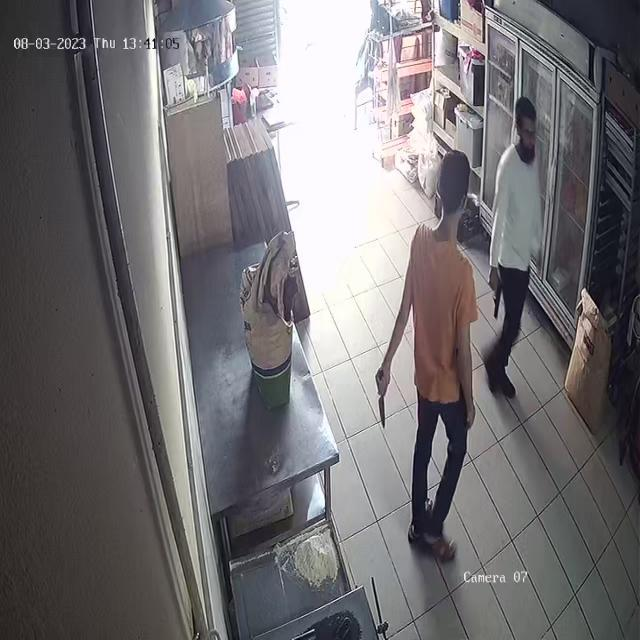Gun: (482, 275, 505, 322)
Knife: (372, 368, 393, 432)
